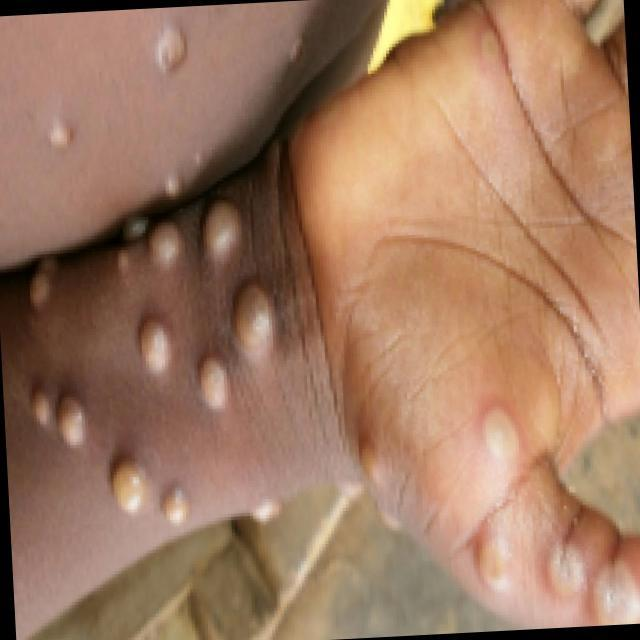Eczema: (10, 201, 292, 528), (460, 395, 640, 633), (31, 29, 186, 191)
